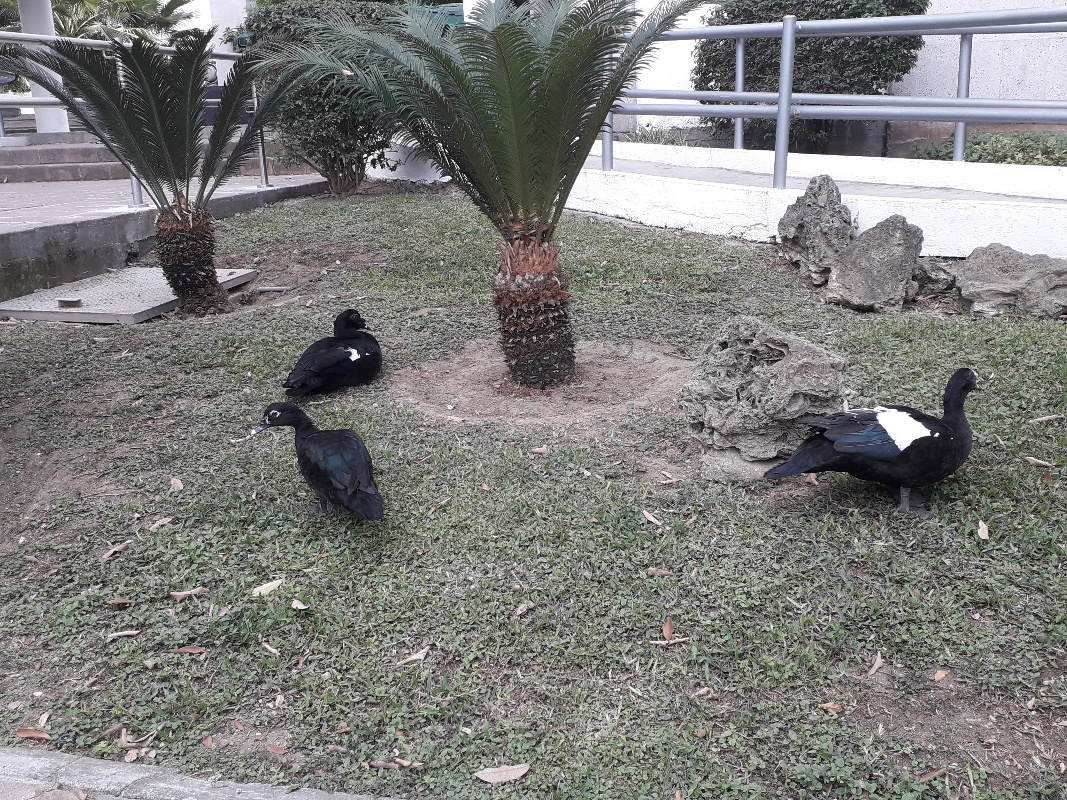pato: (783, 360, 982, 498), (249, 403, 386, 528), (279, 306, 380, 404)
